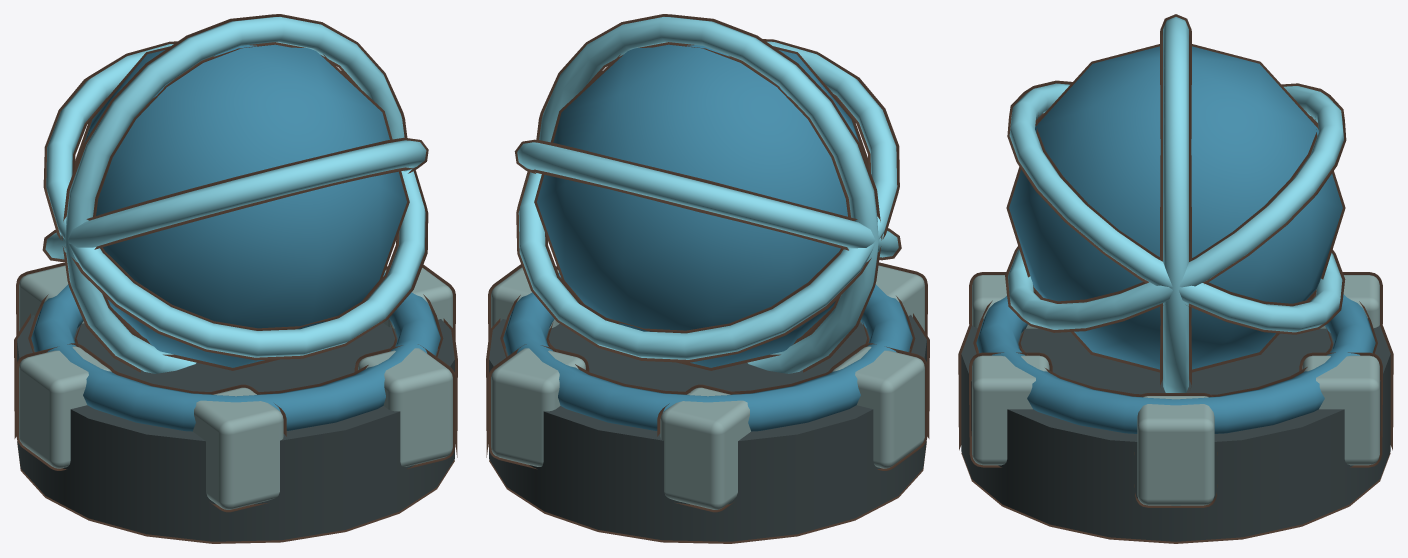
Rendered from prop_60030.glb.
3 views of the same model, side by side, from view 1: azimuth 30°, elevation 25°; view 2: azimuth 150°, elevation 25°; view 3: azimuth 270°, elevation 25° (orthographic). The views are drawn at different scales.
Parts seen in each view (by area): view 1: prop_60030; view 2: prop_60030; view 3: prop_60030.
Boxes of the visible parts, x1,y1,x2,y2 form: prop_60030: [14, 14, 457, 543]; prop_60030: [486, 14, 929, 543]; prop_60030: [958, 14, 1393, 543].
Bounding box in the file's own units: 0.8185 × 0.83 × 0.7758.
